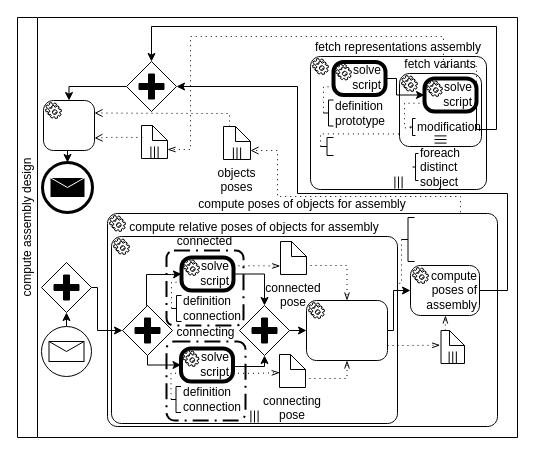
Image size: 535x455. Some labels were removed from this diagram. Each missing label, with the centre of its shape:
"assembly design request" belongs at pixel 66 351.
"assembly design response" belongs at pixel 67 187.
"compose design" belongs at pixel 68 125.
"compute relative pose for connecting" belongs at pixel 347 330.
"foreach modification" belongs at pixel 327 146.
"objects representations" belongs at pixel 154 141.
"recursively foreach part in assembly parts" belongs at pixel 407 239.
"relative objects poses" belongs at pixel 452 347.
